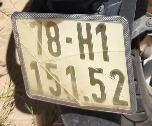1: (94, 22, 113, 62), (64, 64, 80, 102), (28, 59, 44, 94)
2: (109, 68, 129, 107)
5: (88, 65, 107, 104), (46, 61, 62, 98)
7: (25, 19, 44, 57)
8: (45, 19, 63, 58)
H: (74, 19, 95, 61)
